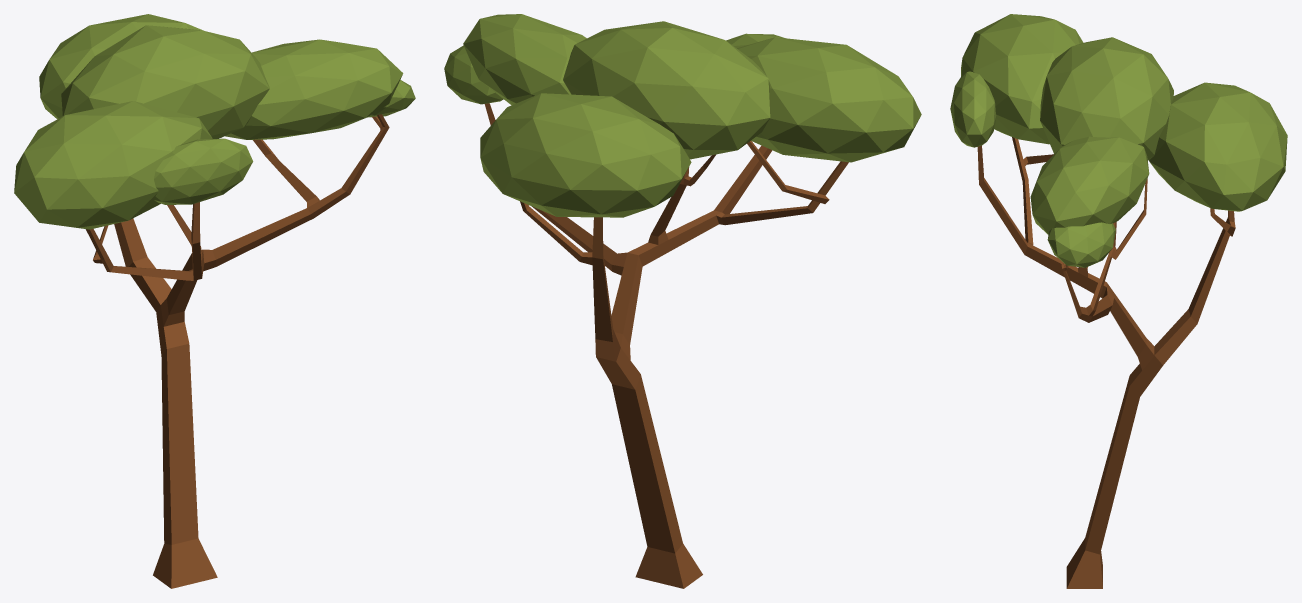
Rendered from tree4.fbx.
The picture shows the model from 3 angles, left to right: view 1: azimuth 30°, elevation 25°; view 2: azimuth 150°, elevation 25°; view 3: azimuth 270°, elevation 25°; orthographic projection. The views are drawn at different scales.
Parts seen in each view (by area): view 1: Cube; view 2: Cube; view 3: Cube.
Boxes of the visible parts, x1,y1,x2,y2 form: Cube: [14, 14, 415, 588]; Cube: [444, 14, 921, 588]; Cube: [950, 14, 1287, 588].
Bounding box in the file's own units: 595 × 723 × 422.
